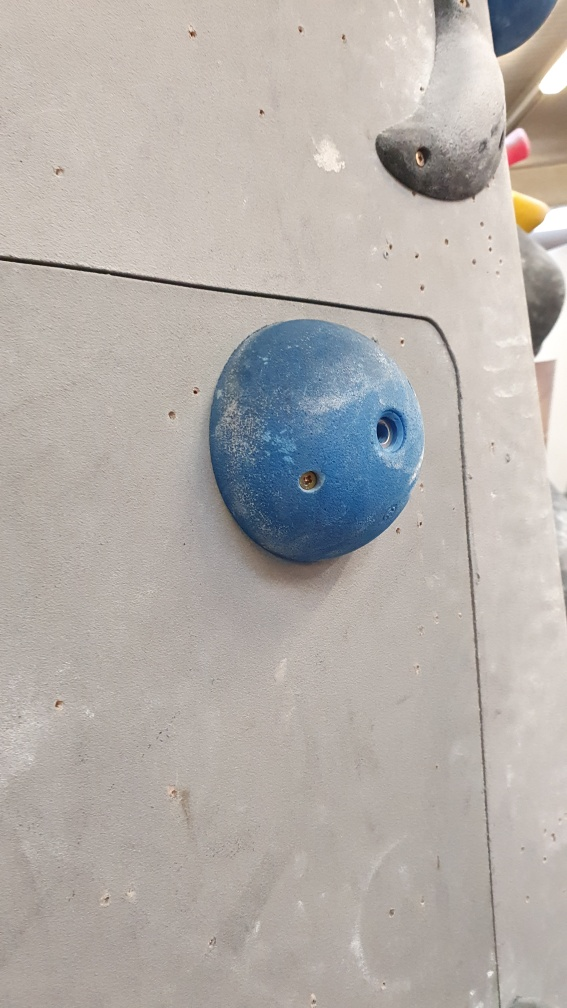Sloper: (205, 315, 431, 571)
